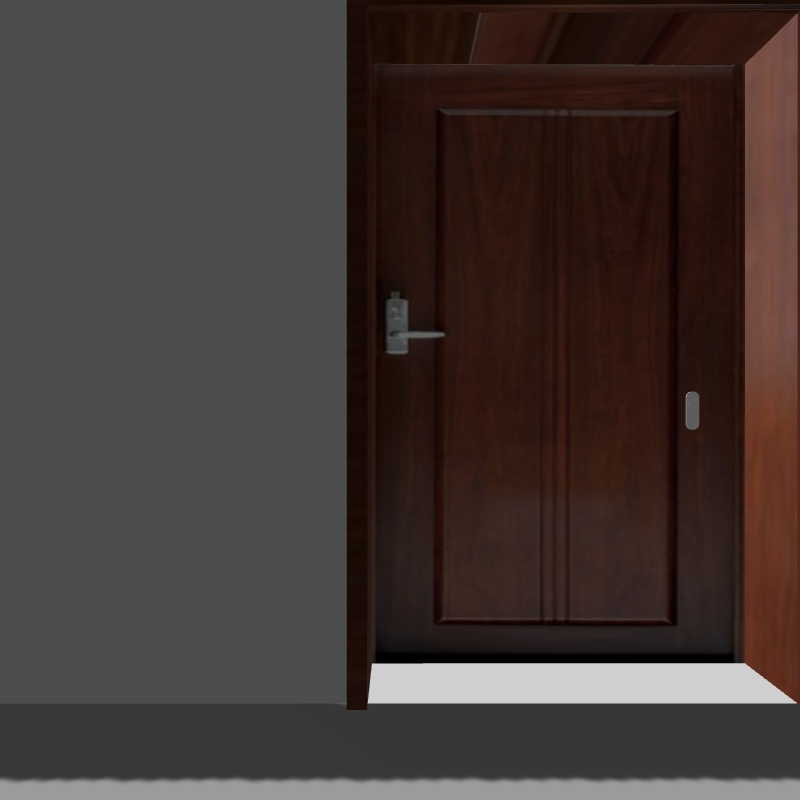handle: (374, 289, 447, 357)
